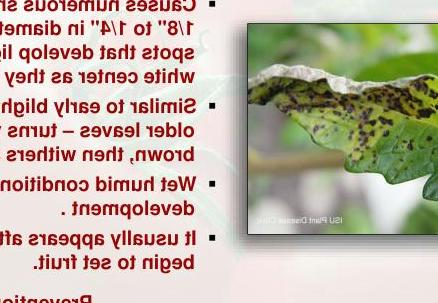Tomato Septoria leaf spot: (252, 59, 438, 213)
